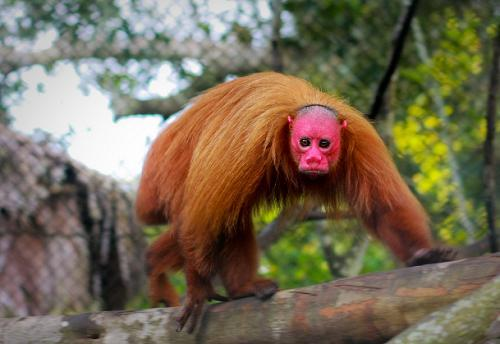monkey: (134, 72, 459, 330)
